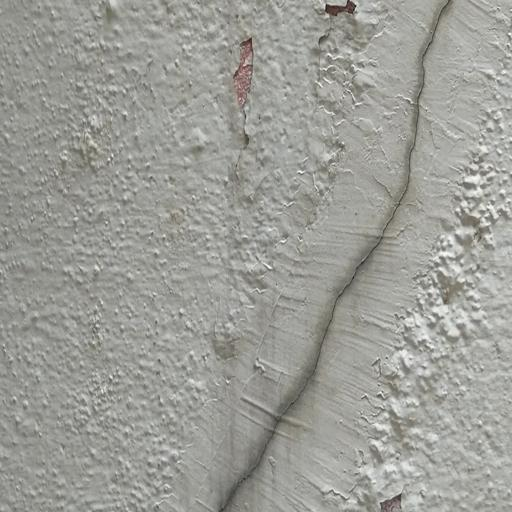minor_crack: (213, 0, 469, 512)
